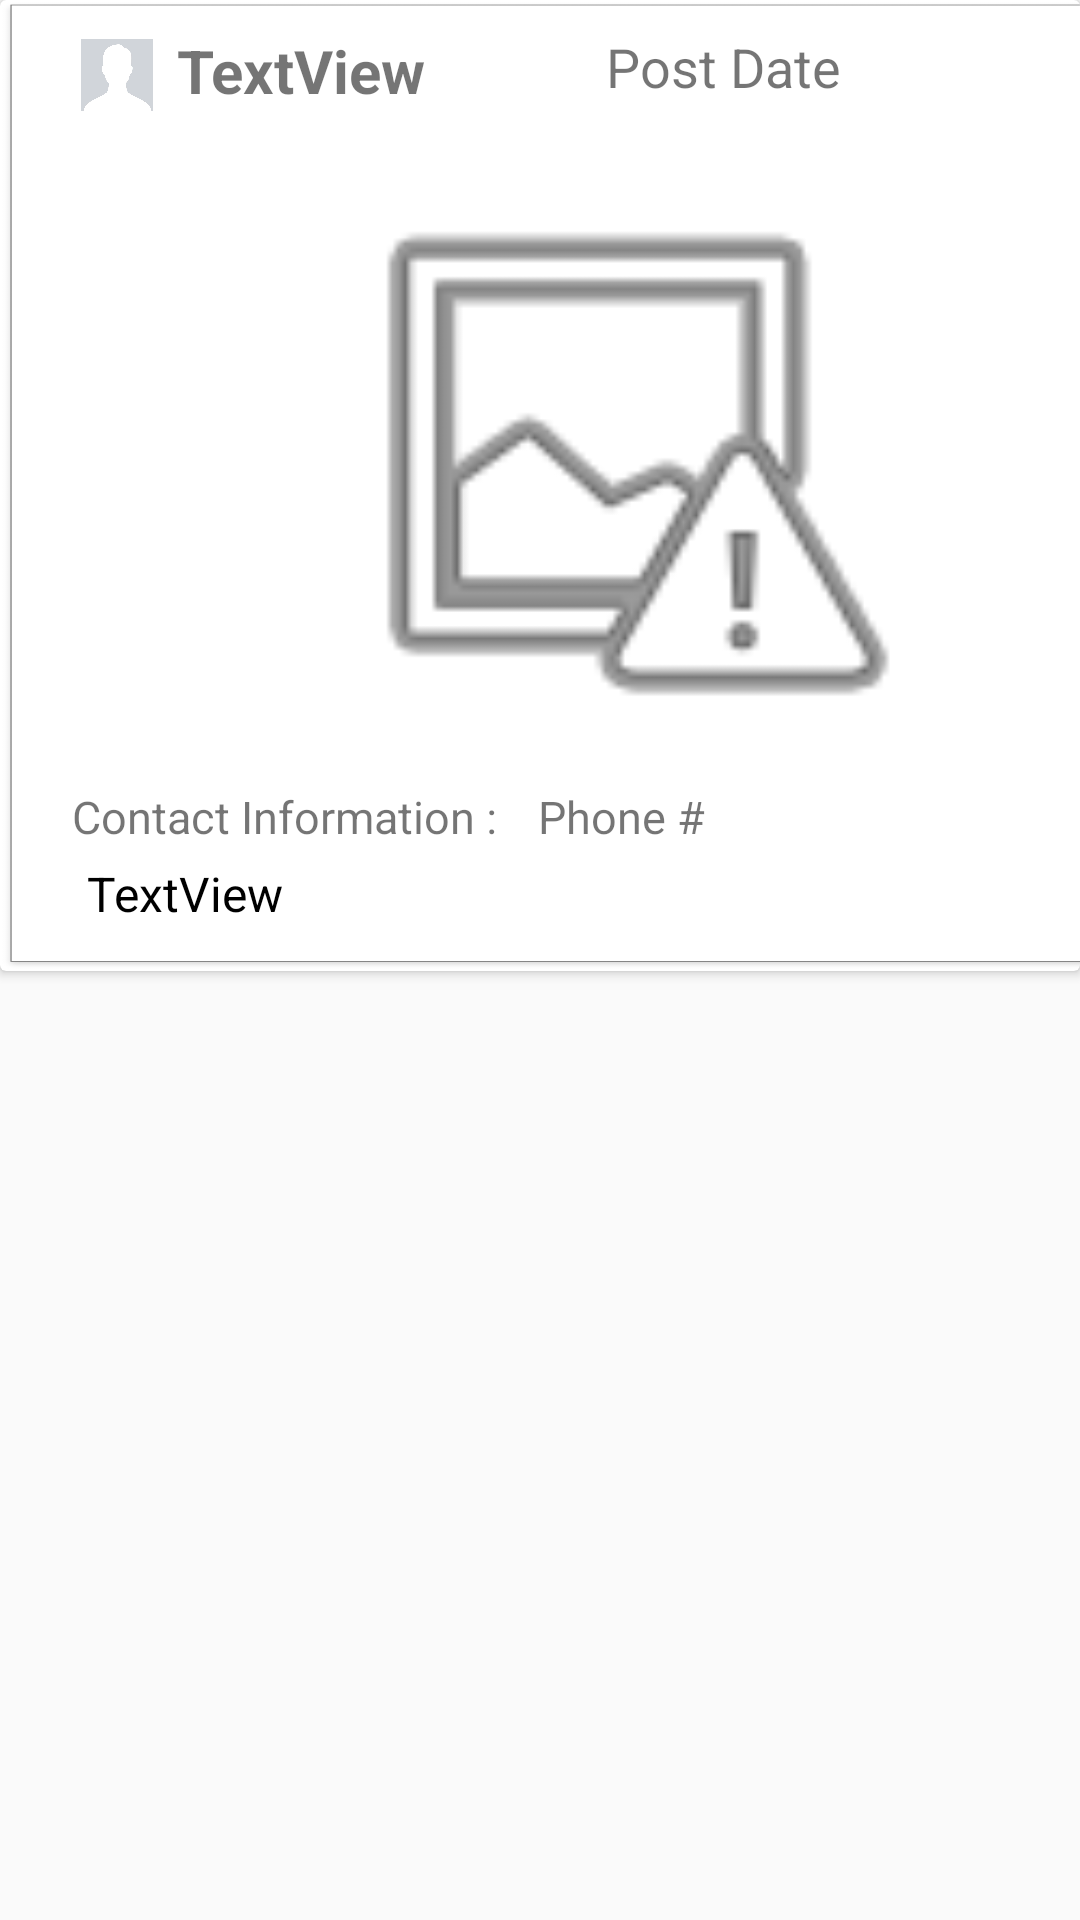

Icons on this 1080px x 1920px Android screen, each with its box as (x1, y1, x2, y2):
profile: (81, 39, 153, 111)
